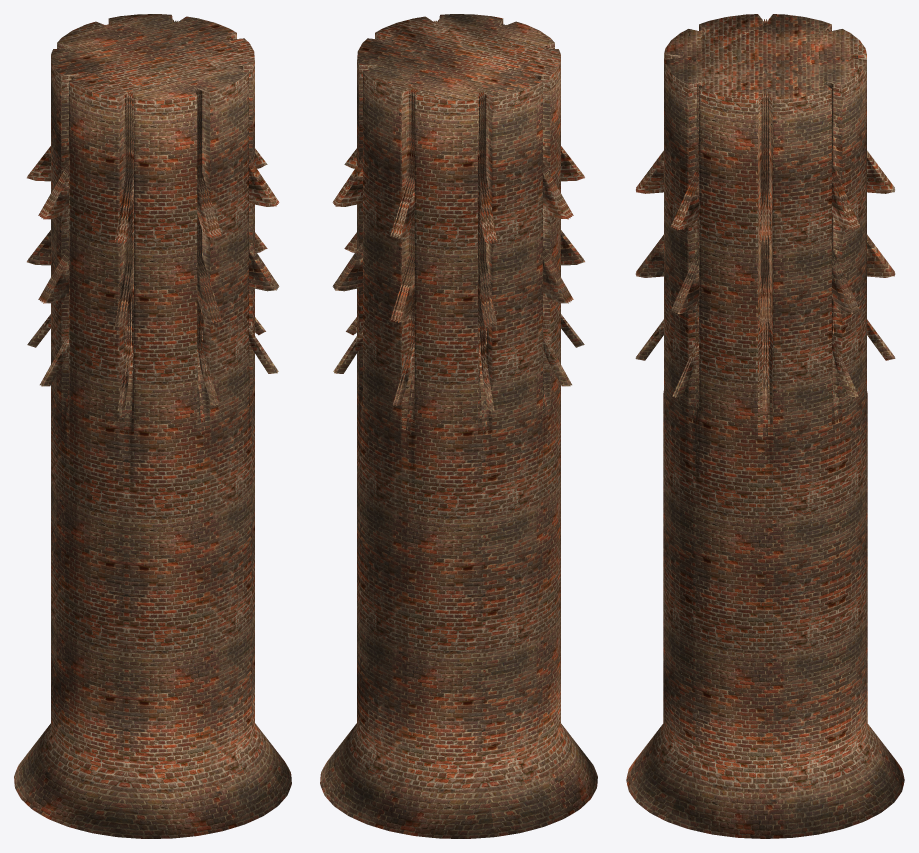
Rendered from boss_pillar_r3.glb.
The picture shows the model from 3 angles, left to right: view 1: azimuth 30°, elevation 25°; view 2: azimuth 150°, elevation 25°; view 3: azimuth 270°, elevation 25°; orthographic projection.
Visible parts, largest first — view 1: boss_pillar_hp; view 2: boss_pillar_hp; view 3: boss_pillar_hp.
Boxes of the visible parts, x1,y1,x2,y2 form: boss_pillar_hp: [14, 14, 291, 838]; boss_pillar_hp: [320, 14, 597, 838]; boss_pillar_hp: [626, 14, 904, 838].
Size of the model in its own units: 1.5 by 4.3 by 1.5.
1 material, 1 textured.
